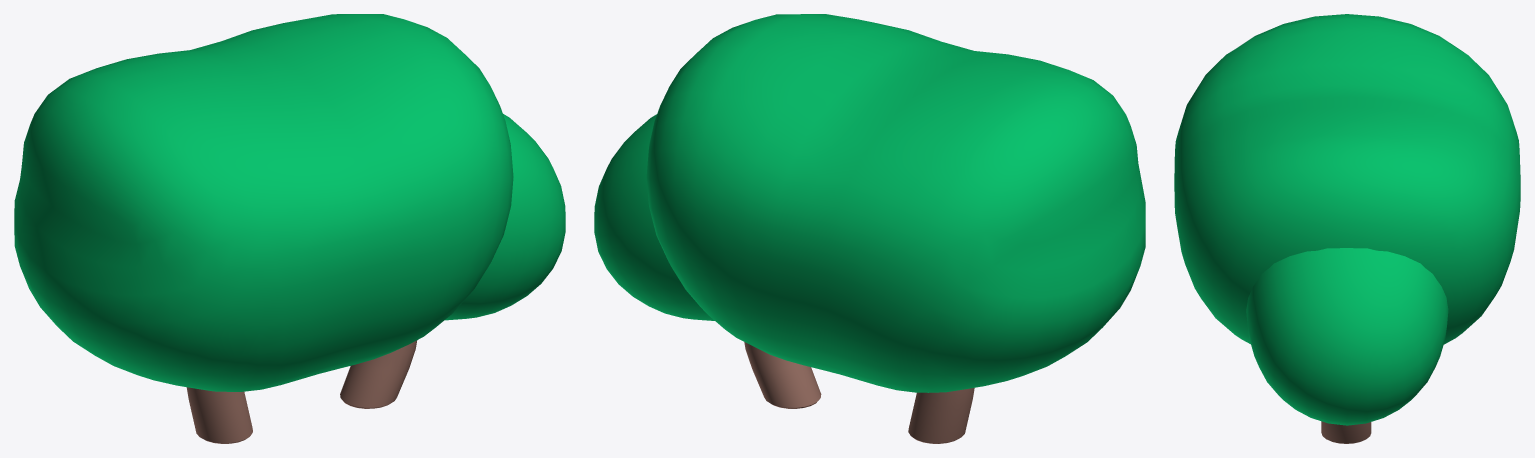
Rendered from Town_11_Bush_2.glb.
3 renders of one model, left to right at view 1: azimuth 30°, elevation 25°; view 2: azimuth 150°, elevation 25°; view 3: azimuth 270°, elevation 25°, orthographic. The views are drawn at different scales.
Visible parts, largest first — view 1: Town_11_Bush_2; view 2: Town_11_Bush_2; view 3: Town_11_Bush_2.
Boxes of the visible parts, bbox=[...] form: Town_11_Bush_2: bbox=[14, 14, 565, 443]; Town_11_Bush_2: bbox=[594, 14, 1145, 443]; Town_11_Bush_2: bbox=[1174, 14, 1520, 443].
Bounding box in the file's own units: 1.27 × 0.8646 × 0.8636.
Materials: 1 (1 with a texture image).
